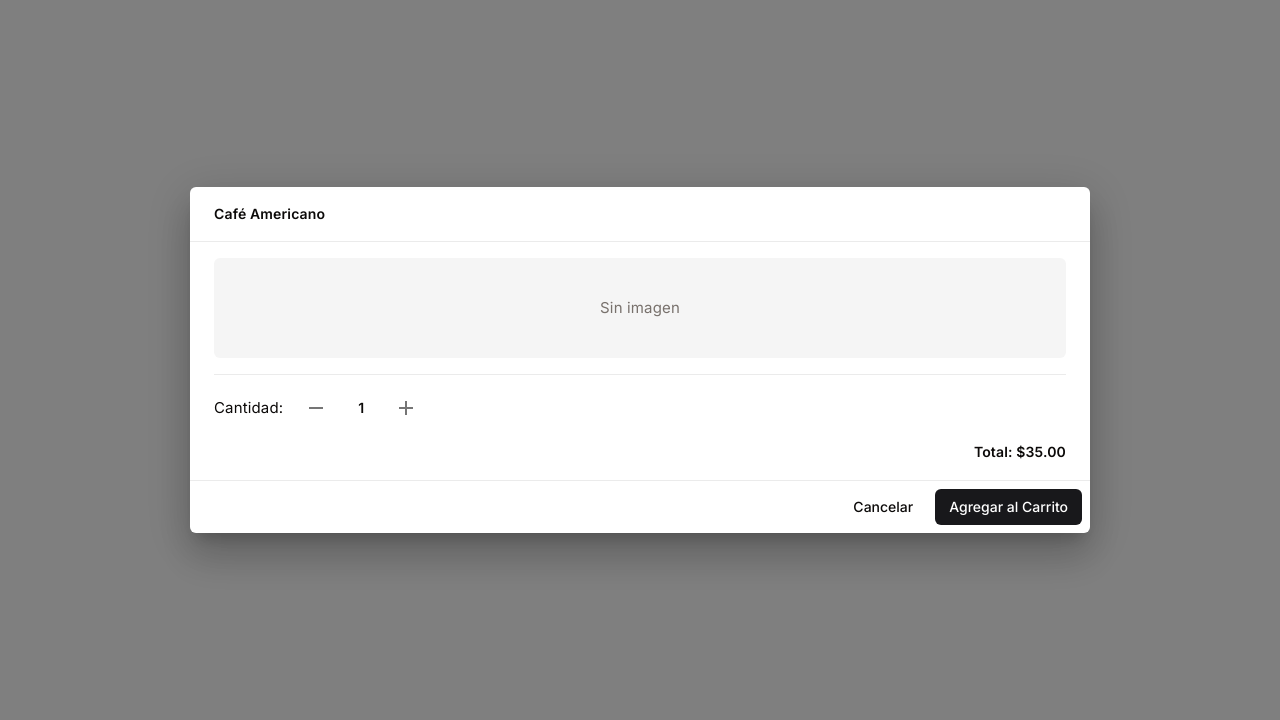
Scenario: ProductDetailModal › increments quantity when "+" is clicked
Click the button named "aumentar cantidad" at (406, 408), box [389,391,423,425]
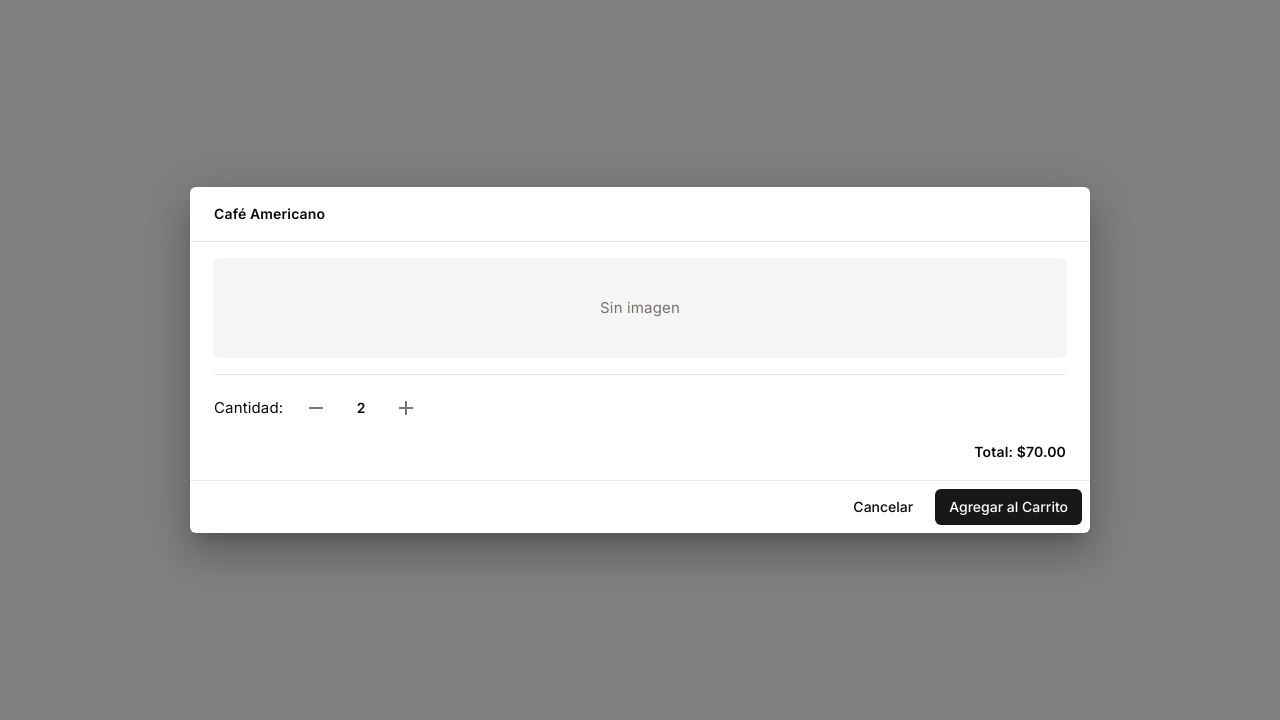
Result: the heading named "cantidad" reads "2" at [357,399,366,416]
